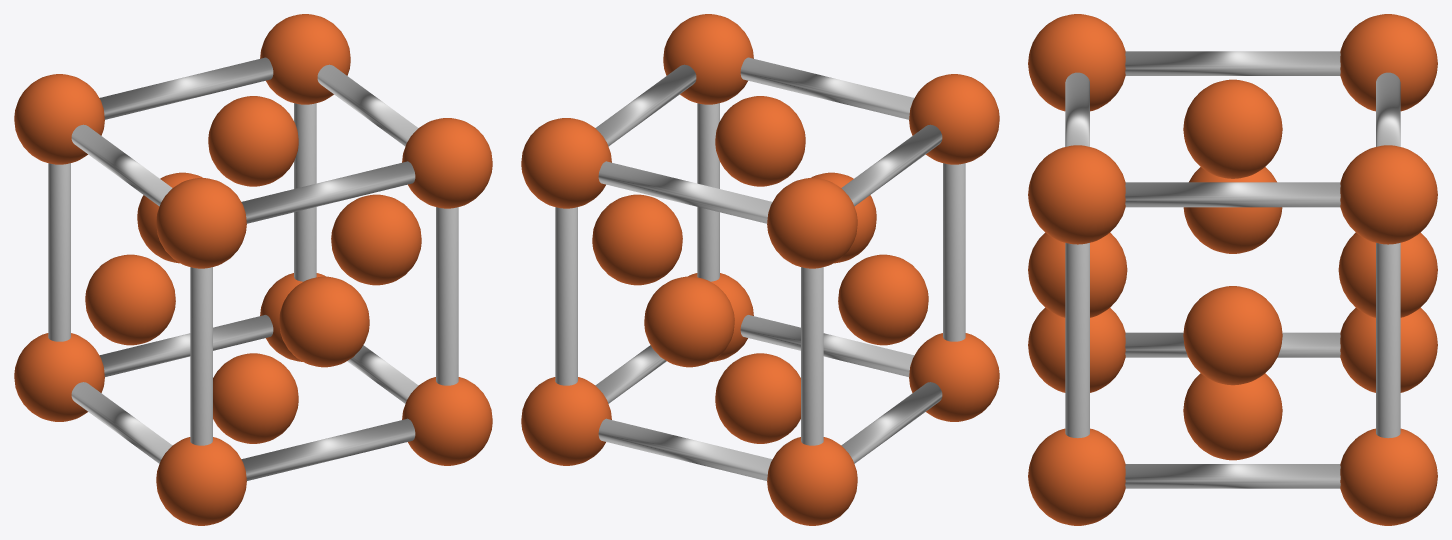
File: cobre2.glb
The picture shows the model from 3 angles, left to right: view 1: azimuth 30°, elevation 25°; view 2: azimuth 150°, elevation 25°; view 3: azimuth 270°, elevation 25°; orthographic projection. The views are drawn at different scales.
Parts seen in each view (by area): view 1: Sphere.009, Cylinder.004, Cylinder.003; view 2: Sphere.009, Cylinder.004, Cylinder.003; view 3: Sphere.009, Cylinder.004, Cylinder.003.
Part boxes in pixels (left/top/right/bottom): Sphere.009: left=14, top=14, right=492, bottom=525; Cylinder.004: left=48, top=57, right=446, bottom=480; Cylinder.003: left=440, top=207, right=458, bottom=385; Sphere.009: left=521, top=14, right=999, bottom=525; Cylinder.004: left=555, top=57, right=965, bottom=480; Cylinder.003: left=697, top=103, right=719, bottom=280; Sphere.009: left=1028, top=14, right=1437, bottom=525; Cylinder.004: left=1065, top=51, right=1400, bottom=488; Cylinder.003: left=1065, top=243, right=1089, bottom=438.
Size of the model in its own units: 3.3 by 3.3 by 3.3.
